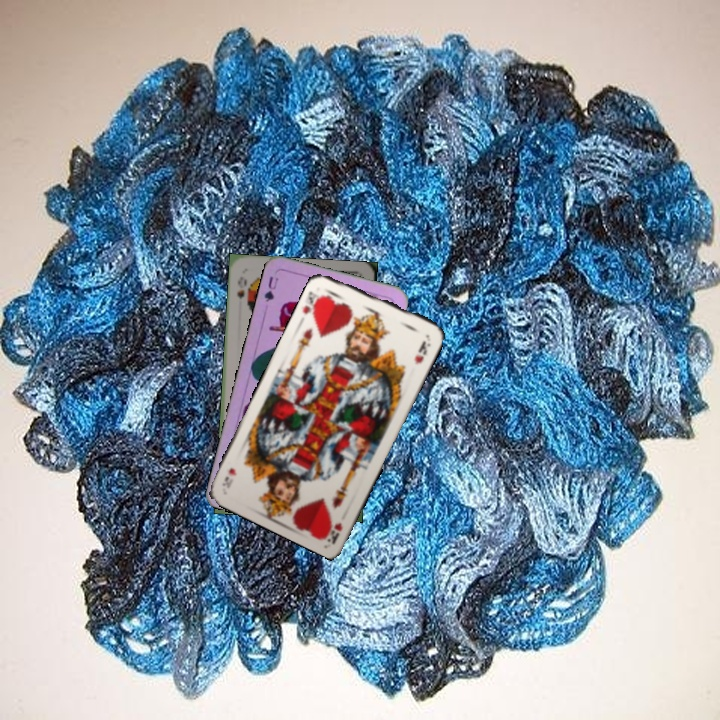GU: (260, 272, 281, 305)
HK: (298, 287, 327, 320), (322, 518, 345, 544)
SO: (233, 272, 249, 301)
